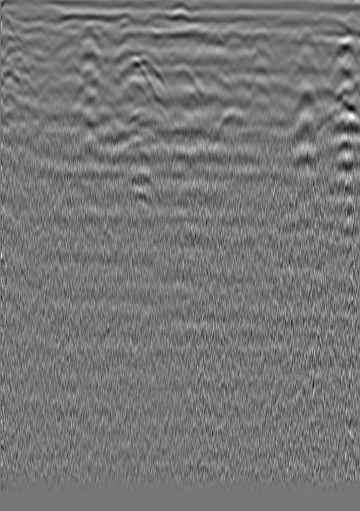가스: (117, 134, 149, 161)
상수: (298, 23, 318, 43)
오수: (31, 20, 51, 40)
우수: (167, 21, 187, 41)
